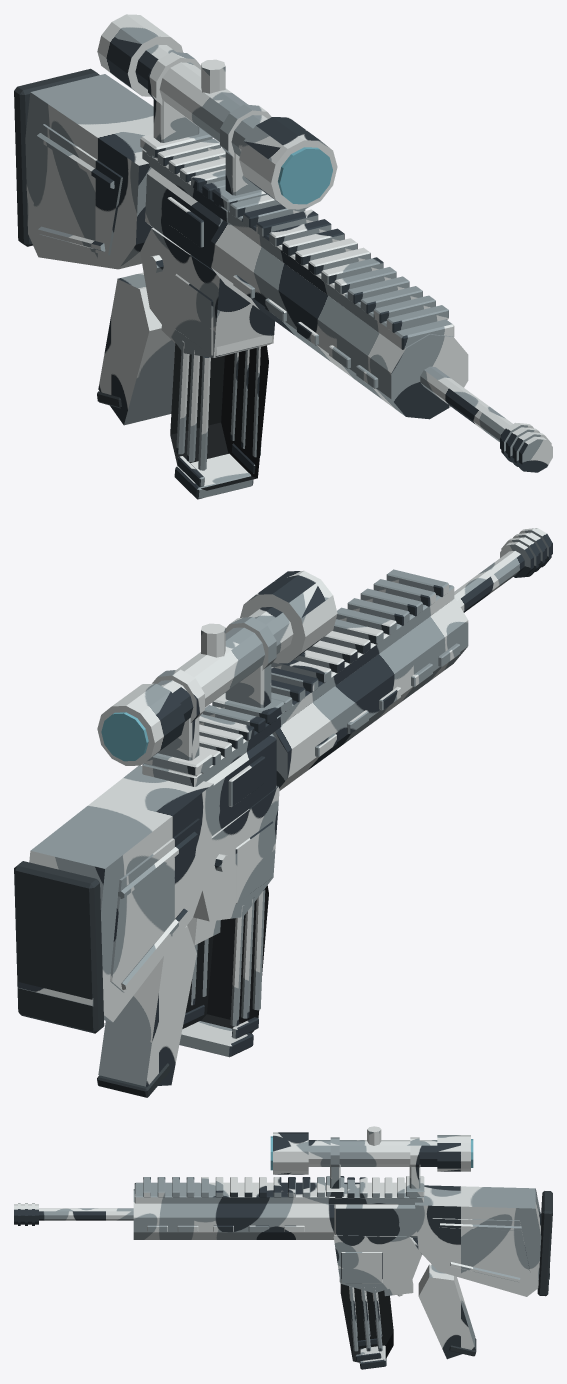
The model's file is AR15_SnowCamo.glb.
3 renders of one model, top to bottom at view 1: azimuth 30°, elevation 25°; view 2: azimuth 150°, elevation 25°; view 3: azimuth 270°, elevation 25°, orthographic. The views are drawn at different scales.
Parts seen in each view (by area): view 1: FTF_Weapon_AR15_RuralCamo_Mesh; view 2: FTF_Weapon_AR15_RuralCamo_Mesh; view 3: FTF_Weapon_AR15_RuralCamo_Mesh.
Part boxes in pixels (left/top/right/bottom): FTF_Weapon_AR15_RuralCamo_Mesh: left=14, top=14, right=552, bottom=499; FTF_Weapon_AR15_RuralCamo_Mesh: left=14, top=528, right=552, bottom=1097; FTF_Weapon_AR15_RuralCamo_Mesh: left=14, top=1126, right=552, bottom=1369.
Bounding box in the file's own units: 0.1581 × 0.7246 × 1.52.
4 materials, 1 textured.
